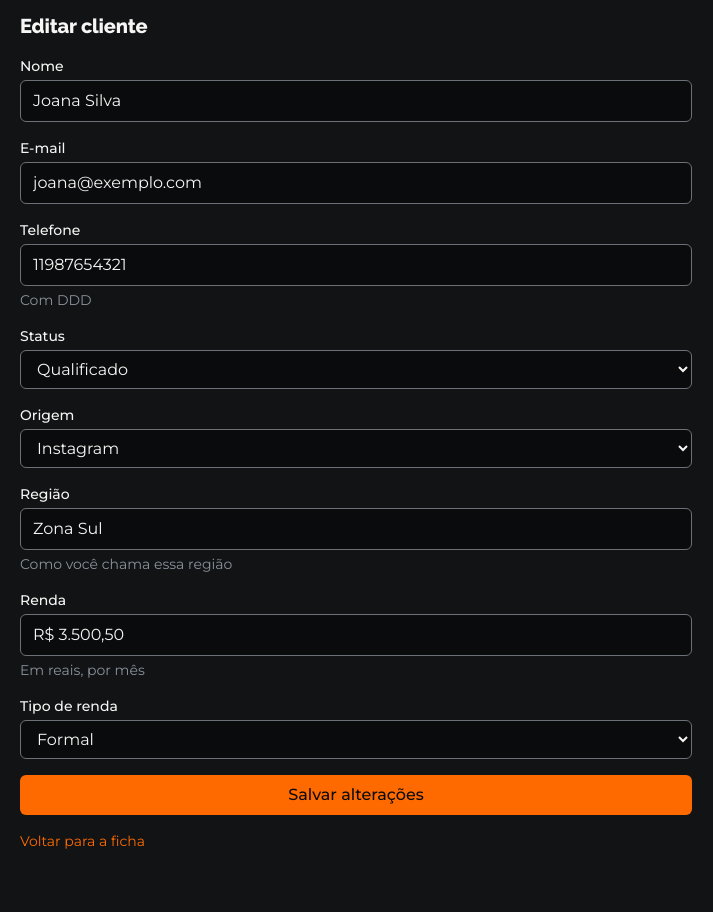
it: EditarCliente › avisa que o cliente não existe mais ao salvar um registro excluído em outra aba
Type " Souza" into the field labelled "Nome".
click(356, 101); type(" Souza")  # box [20,80,692,122]
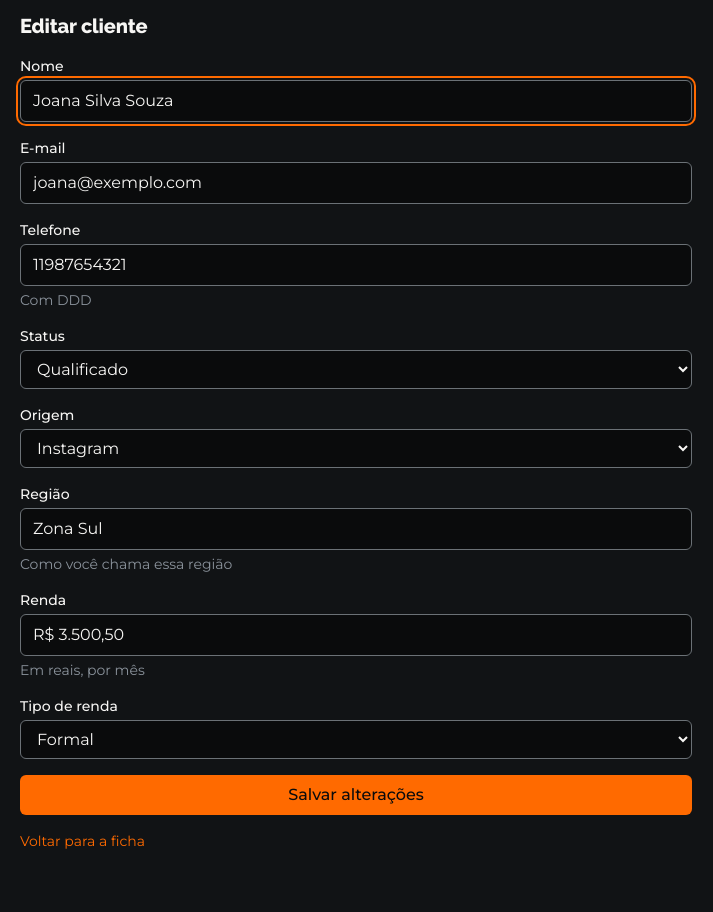
Click the button "Salvar alterações".
click(356, 795)  # box [20,775,692,815]
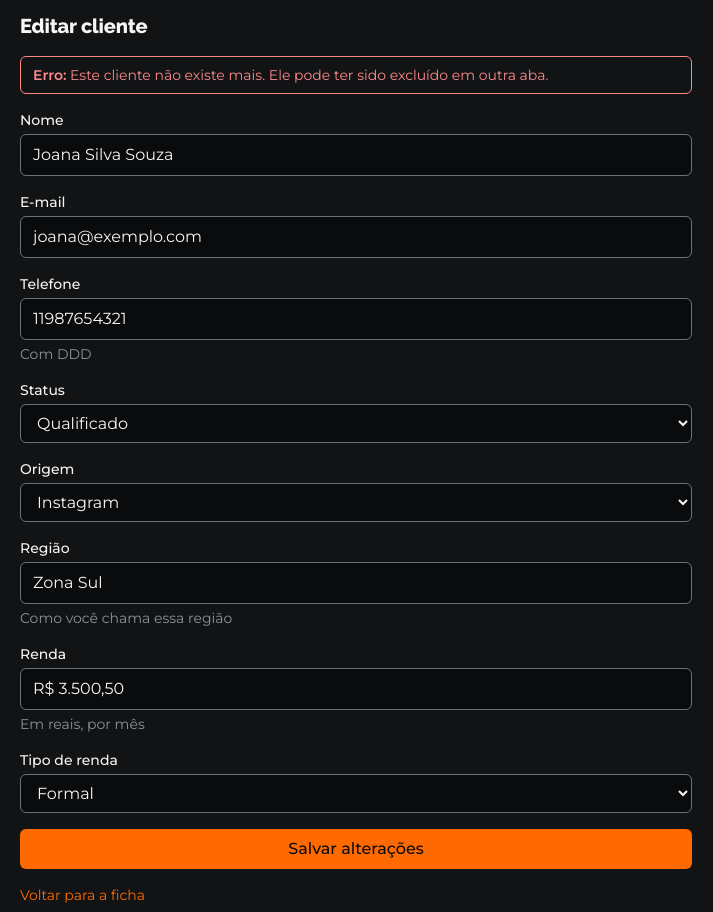
Expected: the link "Voltar para a ficha" is shown, [20,886,145,904]
Now the message shows "Este cliente não existe mais", box [70,66,549,84]
